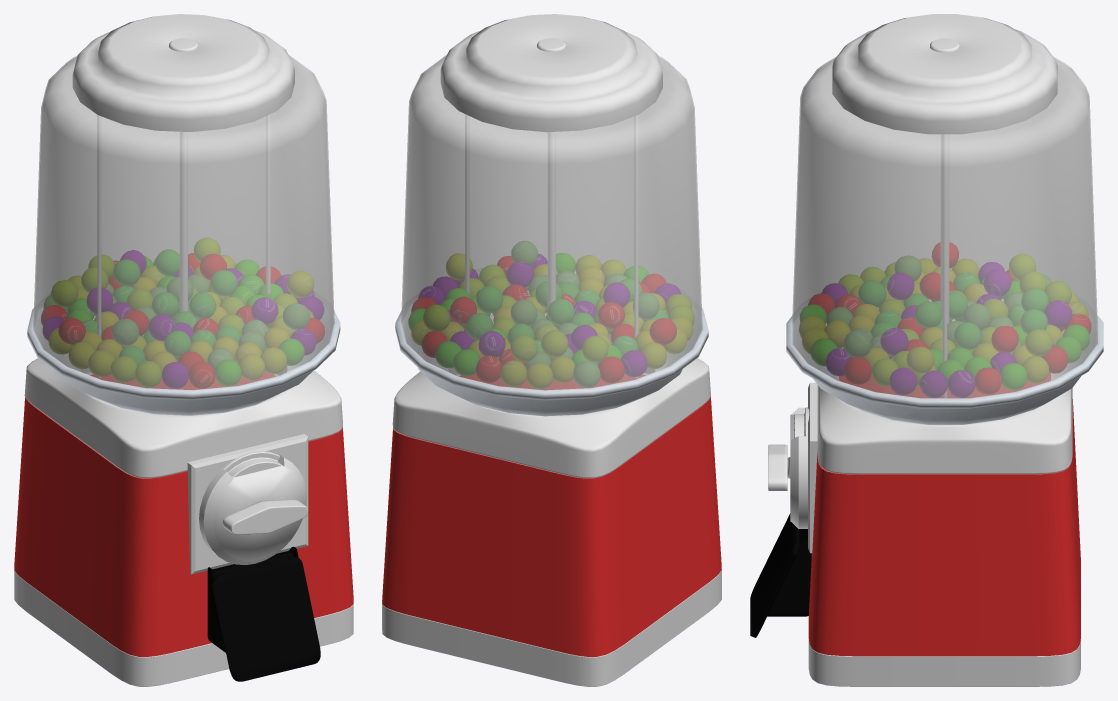
The model's file is Gumball Machine.fbx.
3 views of the same model, side by side, from view 1: azimuth 30°, elevation 25°; view 2: azimuth 150°, elevation 25°; view 3: azimuth 270°, elevation 25° (orthographic). The views are drawn at different scales.
Parts seen in each view (by area): view 1: GumballMachine.001, GumballMachine.002, Cube.090; view 2: GumballMachine.001, GumballMachine.002, Cube.090; view 3: GumballMachine.001, GumballMachine.002, Cube.090.
Part boxes in pixels (left/top/right/bottom): GumballMachine.001: left=14, top=14, right=353, bottom=686; GumballMachine.002: left=33, top=55, right=334, bottom=389; Cube.090: left=41, top=238, right=324, bottom=388; GumballMachine.001: left=382, top=14, right=721, bottom=686; GumballMachine.002: left=401, top=55, right=702, bottom=390; Cube.090: left=408, top=241, right=694, bottom=388; GumballMachine.001: left=750, top=14, right=1103, bottom=686; GumballMachine.002: left=792, top=56, right=1097, bottom=398; Cube.090: left=799, top=242, right=1090, bottom=397.
Bounding box in the file's own units: 28.28 × 57.6 × 31.49.
